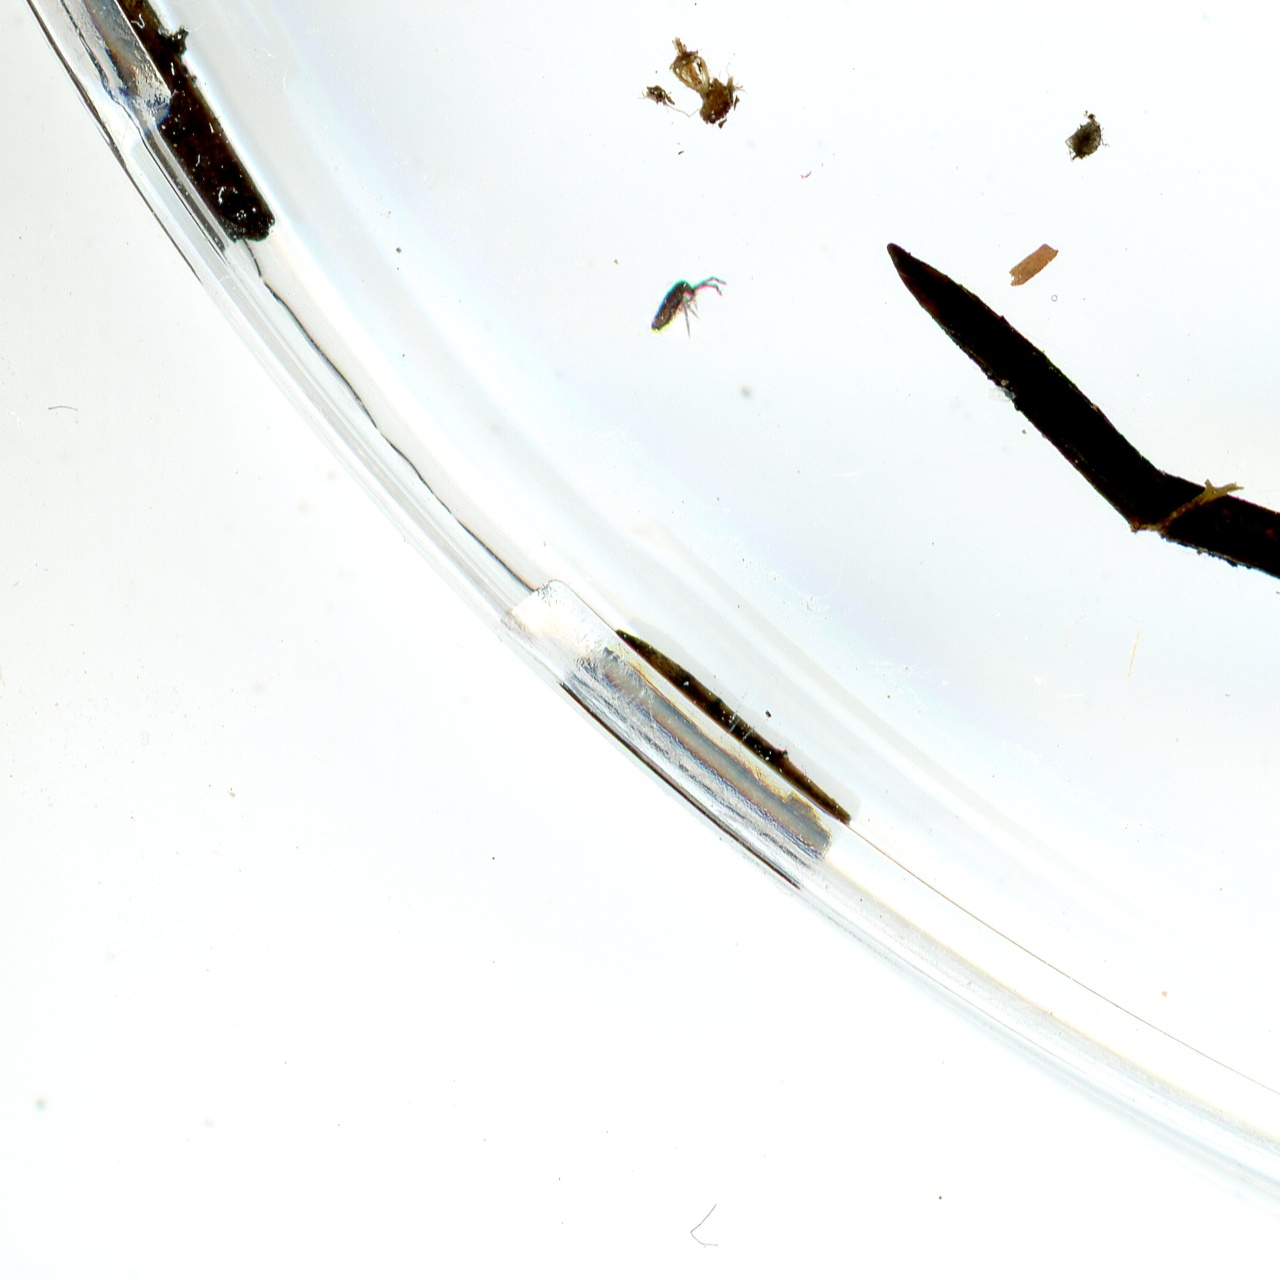arthropod: (633, 252, 736, 360)
